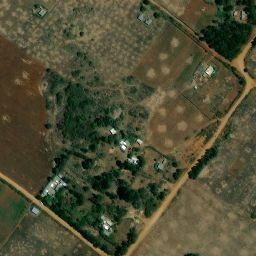tree: (82, 158, 96, 170), (153, 12, 162, 19), (44, 123, 52, 130), (82, 186, 90, 192), (171, 162, 178, 167), (243, 68, 249, 72)
